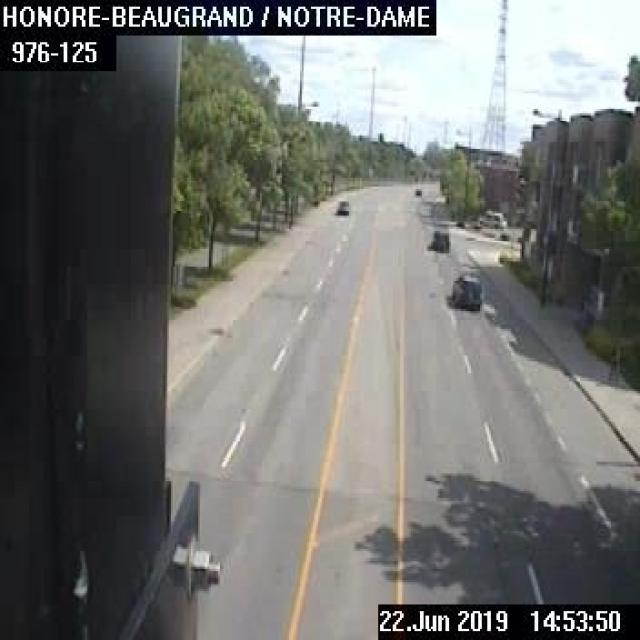vehicle: (449, 269, 480, 309), (477, 208, 505, 228), (428, 227, 448, 251), (335, 198, 349, 213), (413, 184, 421, 196)
